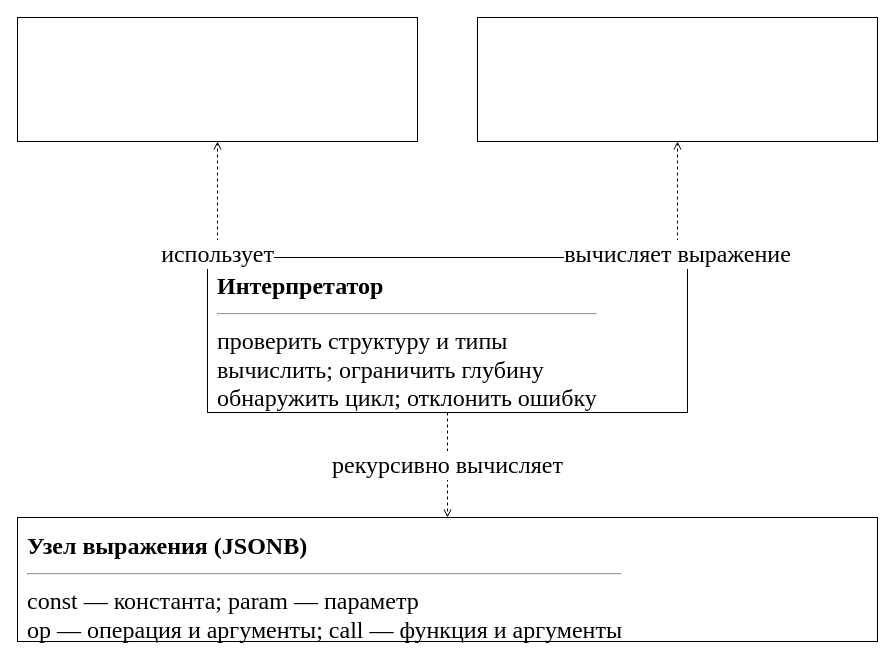
This 895x662 diagram has some shape labels left out. The centre of each missing label's shape, as x and y in pixels:
Ограничение типовое изделие; имя логическое выражение: point (677, 79)
Функция код; формальные параметры тип результата; выражение: point (217, 79)
